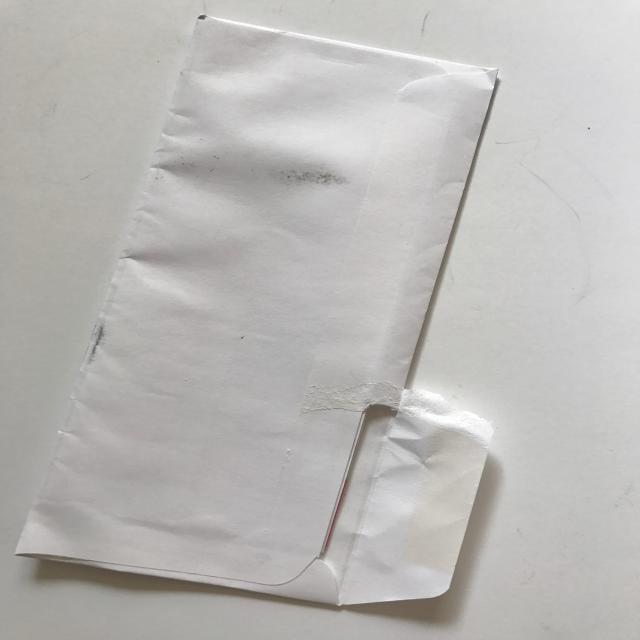paper: (14, 14, 500, 607)
